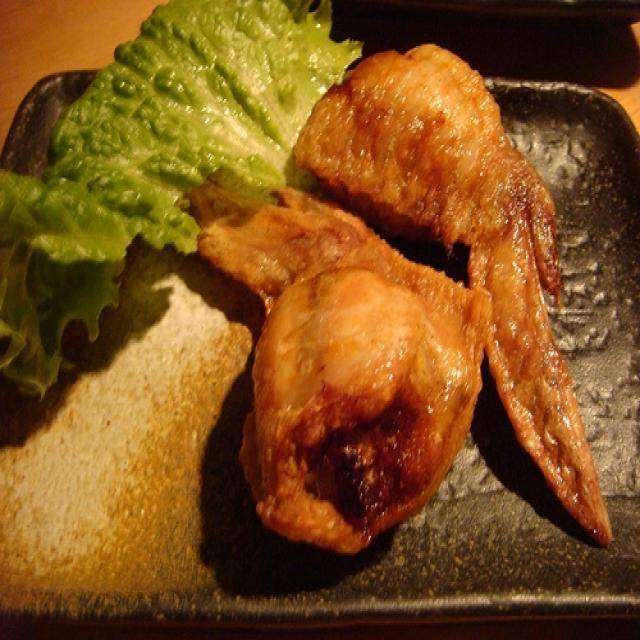Deep fried chicken wing: (211, 65, 609, 553)
Salad: (14, 9, 325, 328)
